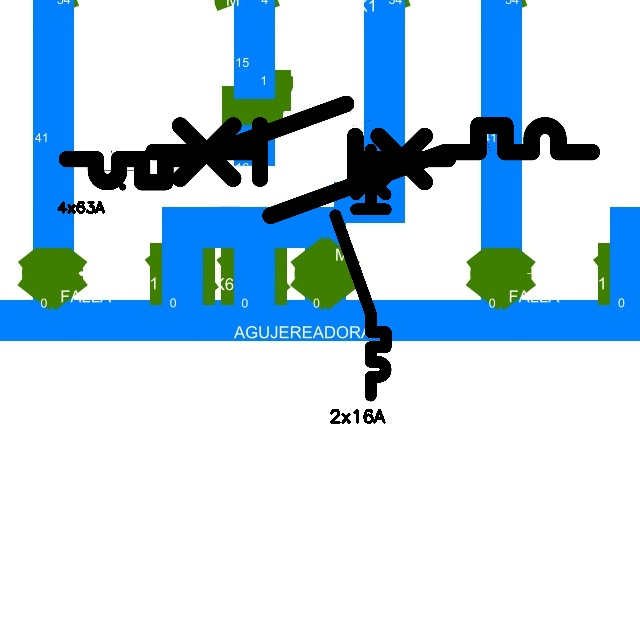interruptor_termomagnetico: (142, 114, 603, 227), (57, 94, 458, 192), (329, 143, 392, 402)
